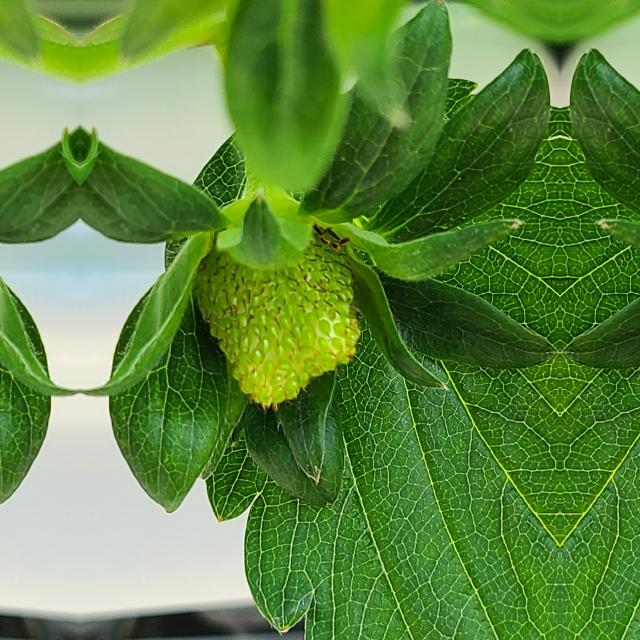Health_25: (195, 224, 359, 404)
